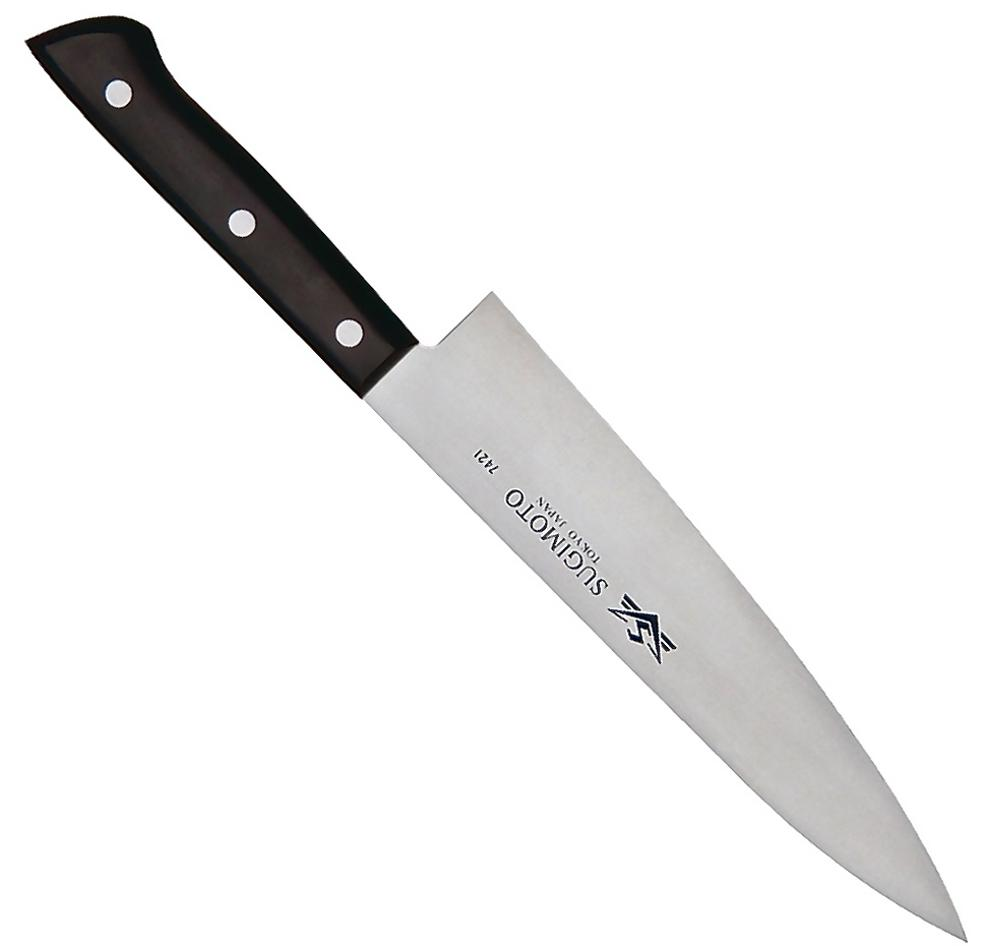knife: (25, 16, 973, 946)
